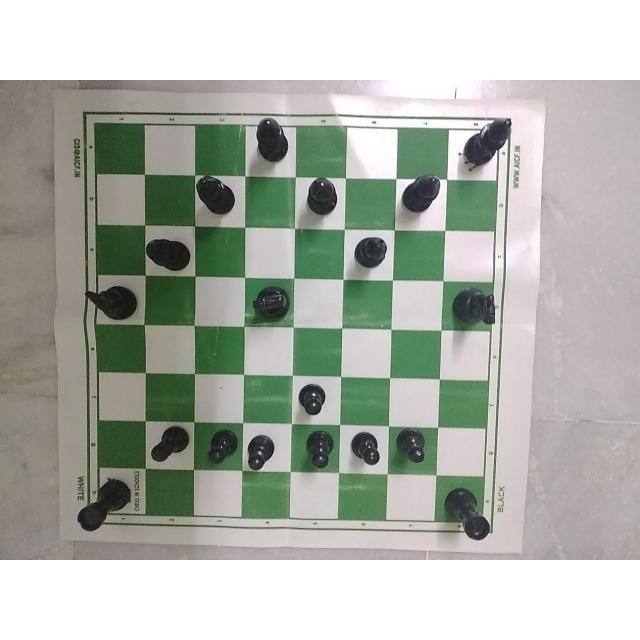black-bishop: (464, 104, 516, 170), (193, 171, 234, 225), (145, 229, 191, 277), (303, 177, 349, 221), (402, 171, 442, 219), (254, 114, 290, 167), (353, 230, 396, 274)
black-knight: (451, 283, 499, 331), (80, 282, 136, 321), (247, 282, 292, 328)
black-pawn: (146, 423, 193, 467), (201, 420, 241, 467), (298, 430, 342, 472), (395, 426, 433, 469), (296, 381, 332, 423), (245, 429, 276, 472), (351, 428, 383, 468)
black-rook: (76, 468, 132, 536), (442, 486, 492, 544)
